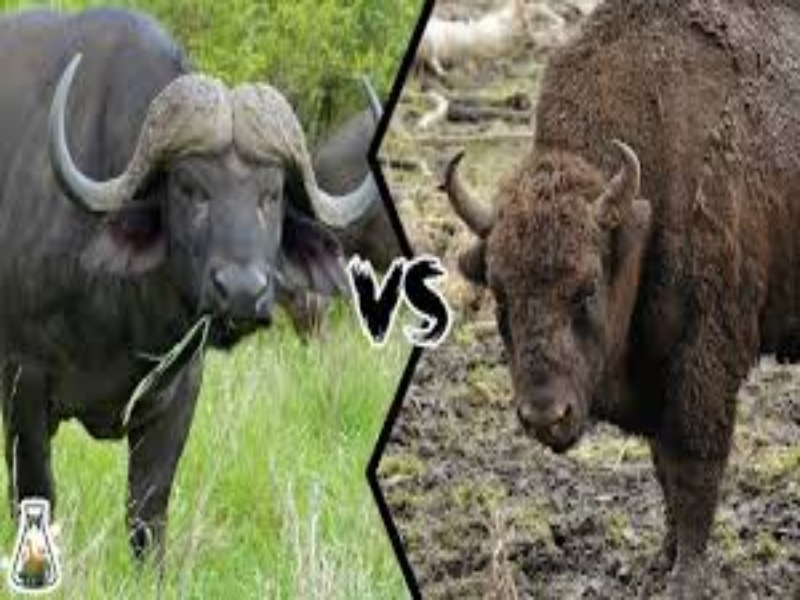buffalo: (7, 21, 322, 570)
